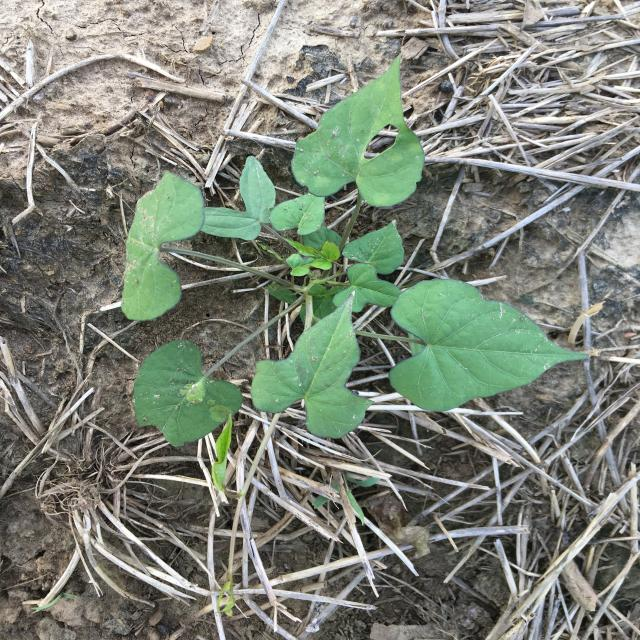MorningGlory: (120, 54, 590, 448)
